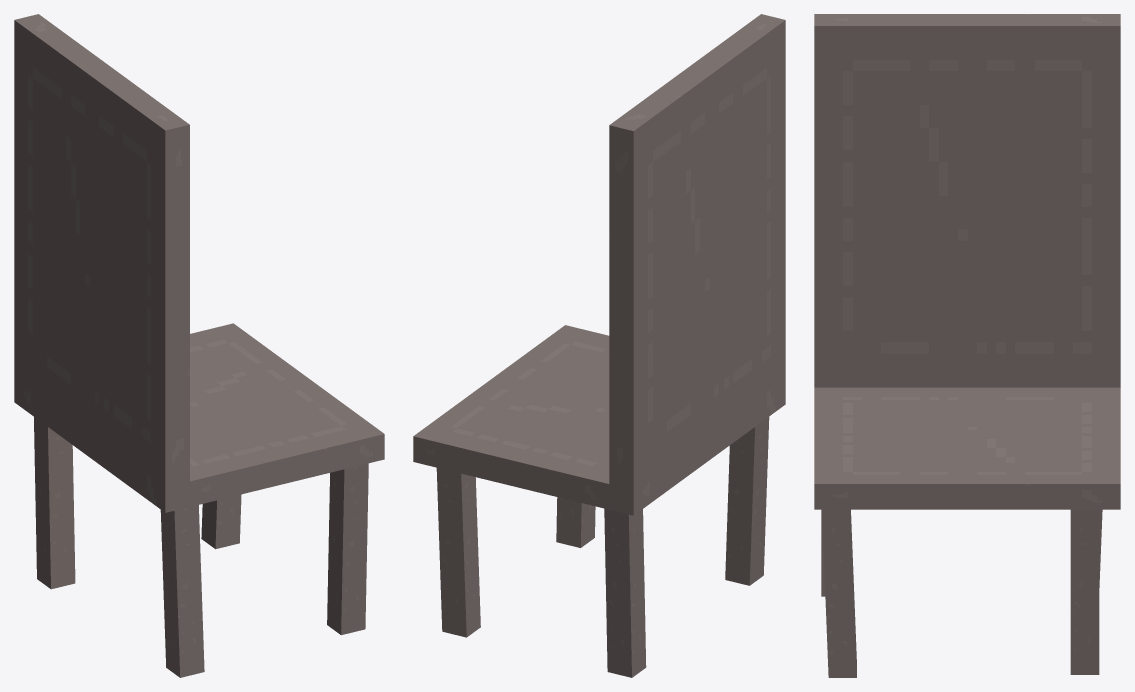
Rendered from chair.glb.
3 renders of one model, left to right at view 1: azimuth 30°, elevation 25°; view 2: azimuth 150°, elevation 25°; view 3: azimuth 270°, elevation 25°, orthographic.
Parts seen in each view (by area): view 1: Mesh_0.001; view 2: Mesh_0.001; view 3: Mesh_0.001.
Boxes of the visible parts, x1,y1,x2,y2 form: Mesh_0.001: [14, 14, 384, 677]; Mesh_0.001: [413, 14, 785, 677]; Mesh_0.001: [814, 14, 1120, 677].
Bounding box in the file's own units: 9 × 21.75 × 10.75.
Materials: 1 (1 with a texture image).
